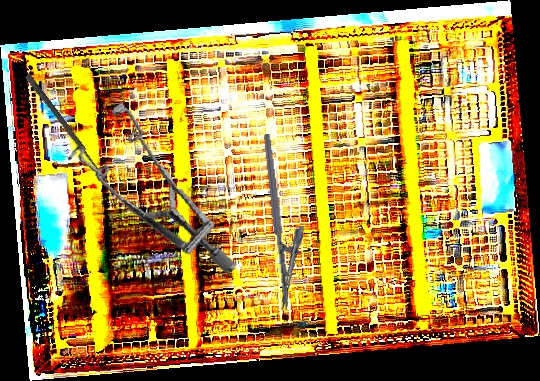Needle Holder: (262, 130, 313, 311)
Speculum: (58, 85, 239, 299)
Surgical Spoon: (24, 73, 111, 186)
